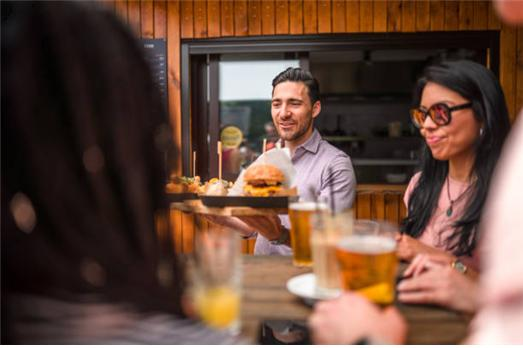alcohol: (330, 215, 400, 305), (306, 212, 343, 299), (288, 200, 320, 269)
